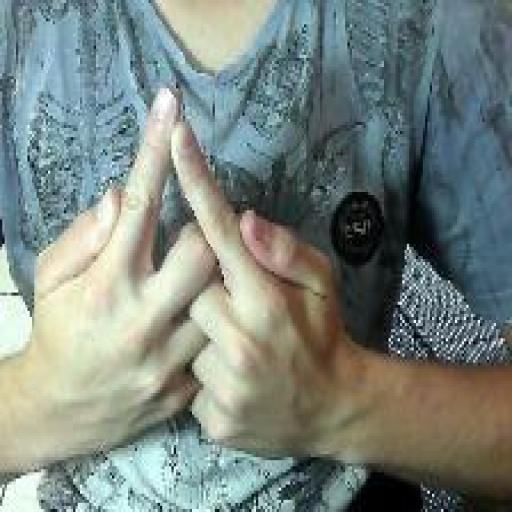Uma -horse-: (28, 81, 345, 465)
